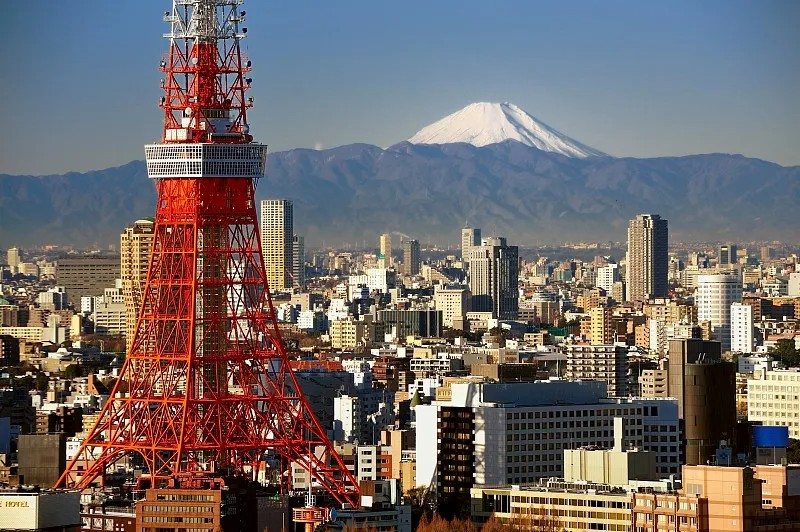Tokyo: (52, 1, 359, 512)
